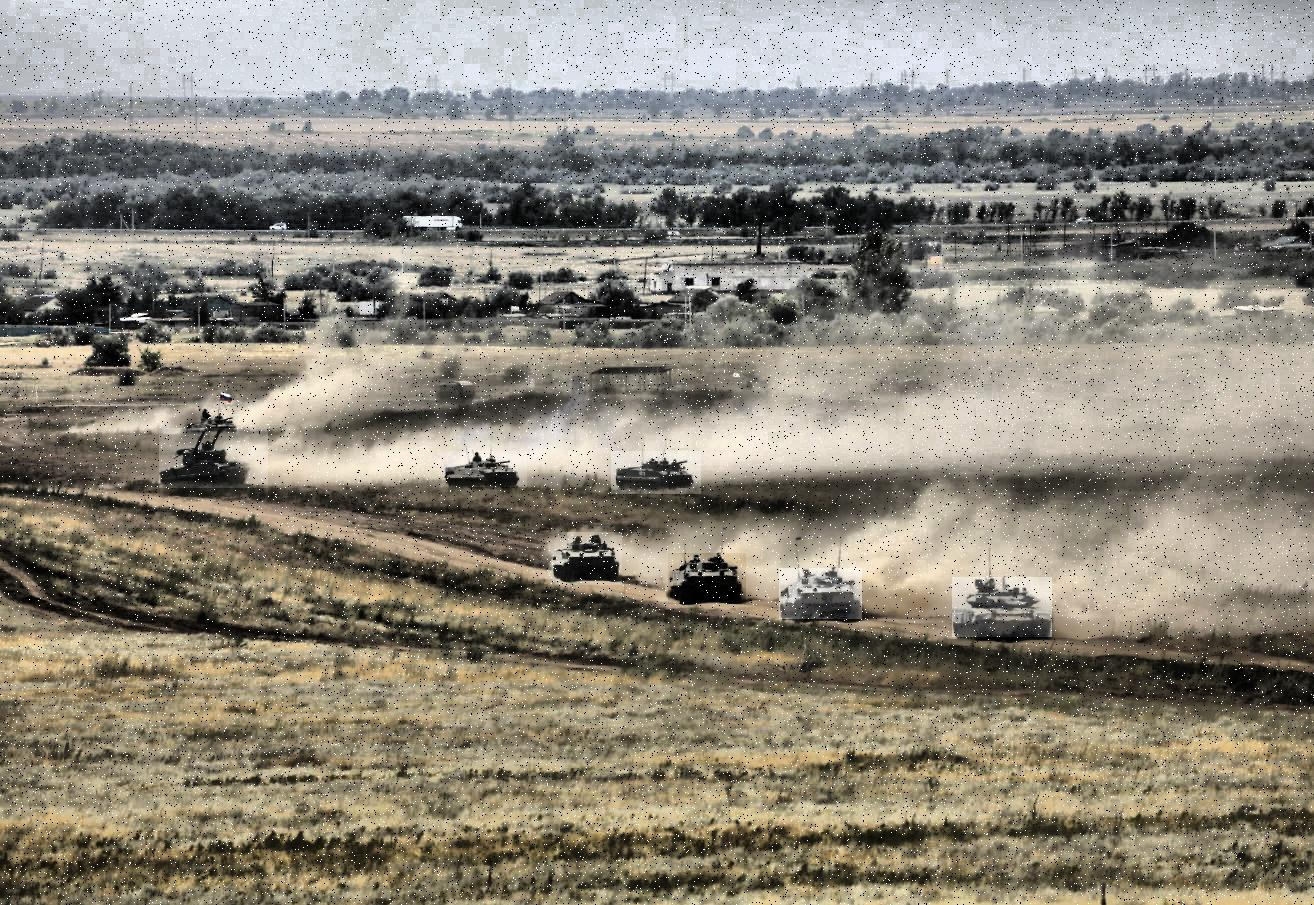military-vehicle: (160, 429, 269, 489), (953, 577, 1053, 637), (780, 569, 863, 620), (669, 553, 747, 604), (549, 533, 623, 586), (611, 451, 701, 494), (447, 451, 527, 487)
